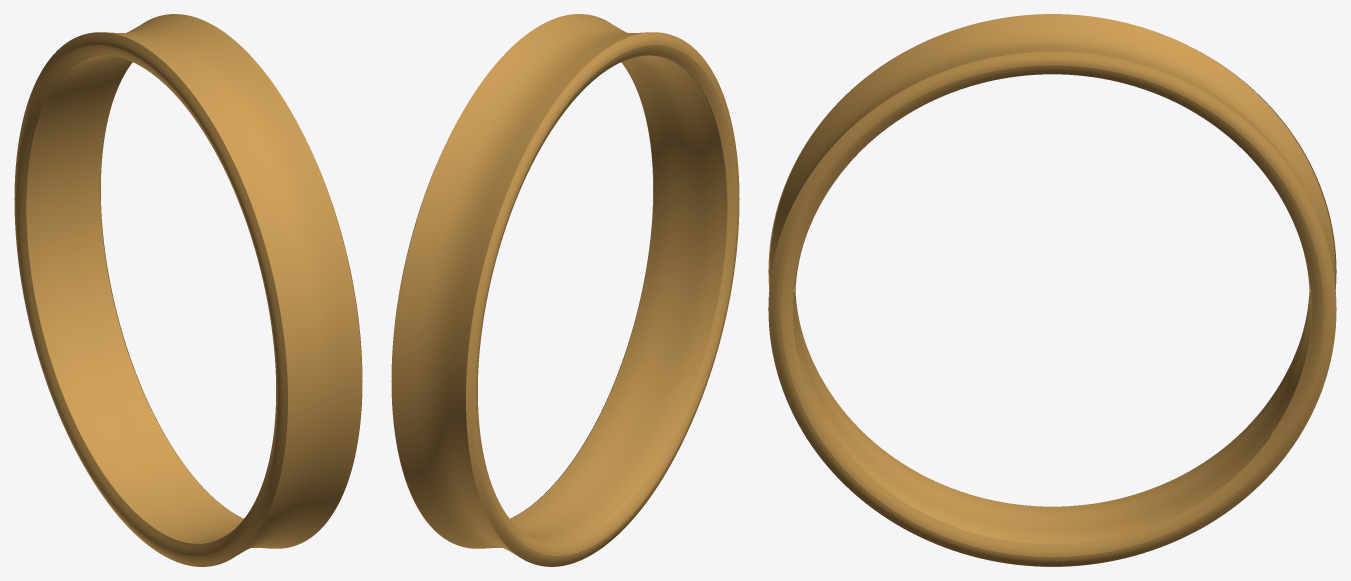
3 views of the same model, side by side, from view 1: azimuth 30°, elevation 25°; view 2: azimuth 150°, elevation 25°; view 3: azimuth 270°, elevation 25° (orthographic). The views are drawn at different scales.
Parts seen in each view (by area): view 1: P8-Outer, P8-Inner, P8-Sides; view 2: P8-Outer, P8-Inner, P8-Sides; view 3: P8-Sides, P8-Outer, P8-Inner.
Part boxes in pixels (x1,y1,x2,y2): P8-Outer: (26, 14, 361, 566); P8-Inner: (27, 52, 243, 543); P8-Sides: (14, 20, 362, 566); P8-Outer: (392, 14, 727, 566); P8-Inner: (510, 52, 726, 543); P8-Sides: (391, 20, 739, 566); P8-Sides: (768, 52, 1336, 566); P8-Outer: (769, 14, 1335, 566); P8-Inner: (793, 51, 1311, 543).
Size of the model in its own units: 0.00399 by 0.023 by 0.0229.
